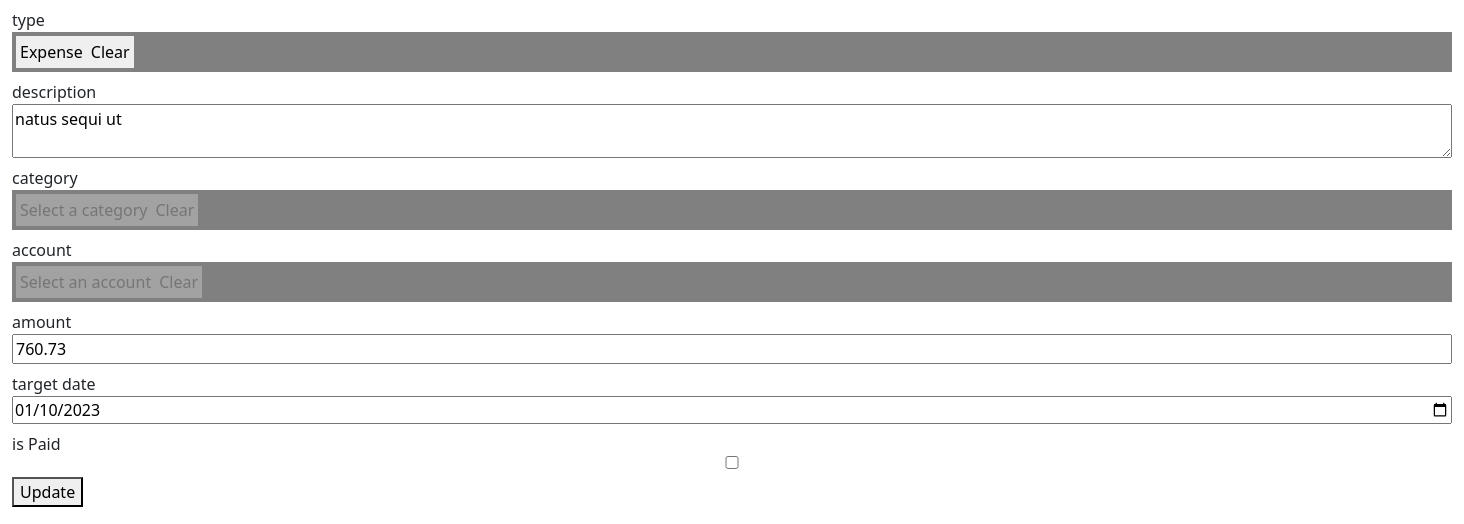
Test: on submit › update transaction › with valid data › should reset form
Click the button "Update" at (48, 492), box top-left (12, 477), bottom-right (83, 507)
Wait 101 ms
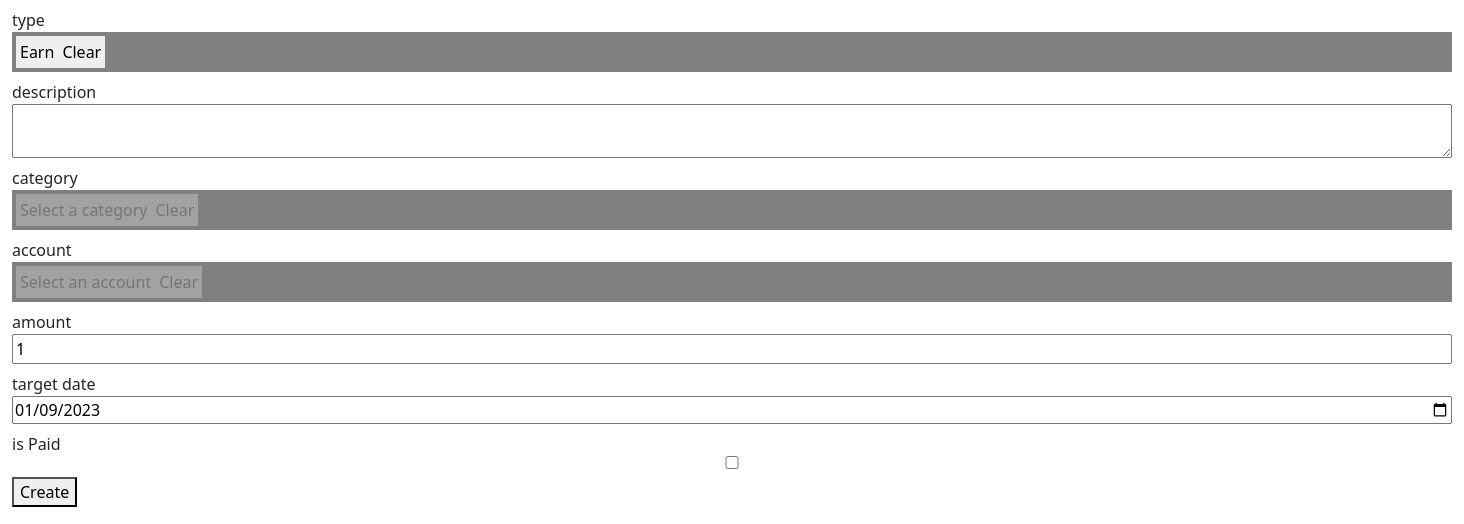
Expected: the checkbox titled "ispaid" is not checked, top-left (12, 456), bottom-right (1452, 469)
Expected: the text box titled "description" is empty, top-left (12, 104), bottom-right (1452, 158)
Expected: the number field titled "amount" holds "1", top-left (12, 334), bottom-right (1452, 364)
